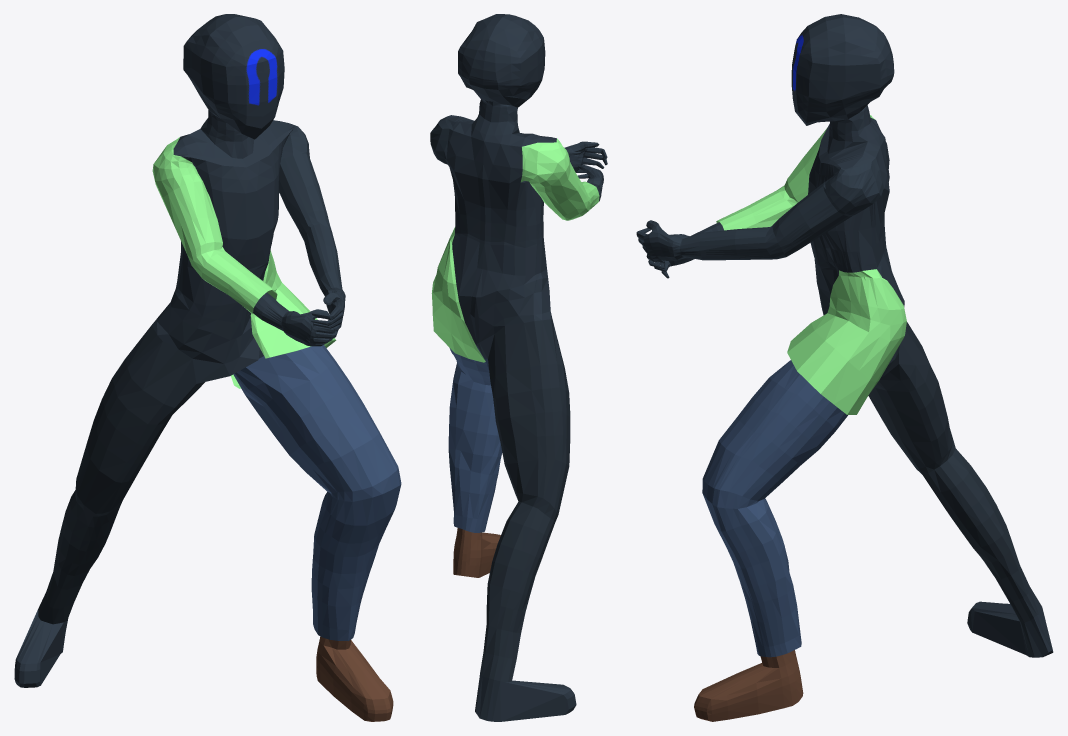
Rendered from Mar_WR_000020.obj.
3 views of the same model, side by side, from view 1: azimuth 30°, elevation 25°; view 2: azimuth 150°, elevation 25°; view 3: azimuth 270°, elevation 25° (orthographic). The views are drawn at different scales.
Visible parts, largest first — view 1: Cube.000_Cube.001; view 2: Cube.000_Cube.001; view 3: Cube.000_Cube.001.
Part boxes in pixels (x1,y1,x2,y2): Cube.000_Cube.001: (14,14,401,721); Cube.000_Cube.001: (430,14,607,721); Cube.000_Cube.001: (636,14,1053,721).
Size of the model in its own units: 1.43 by 3.71 by 2.07.
